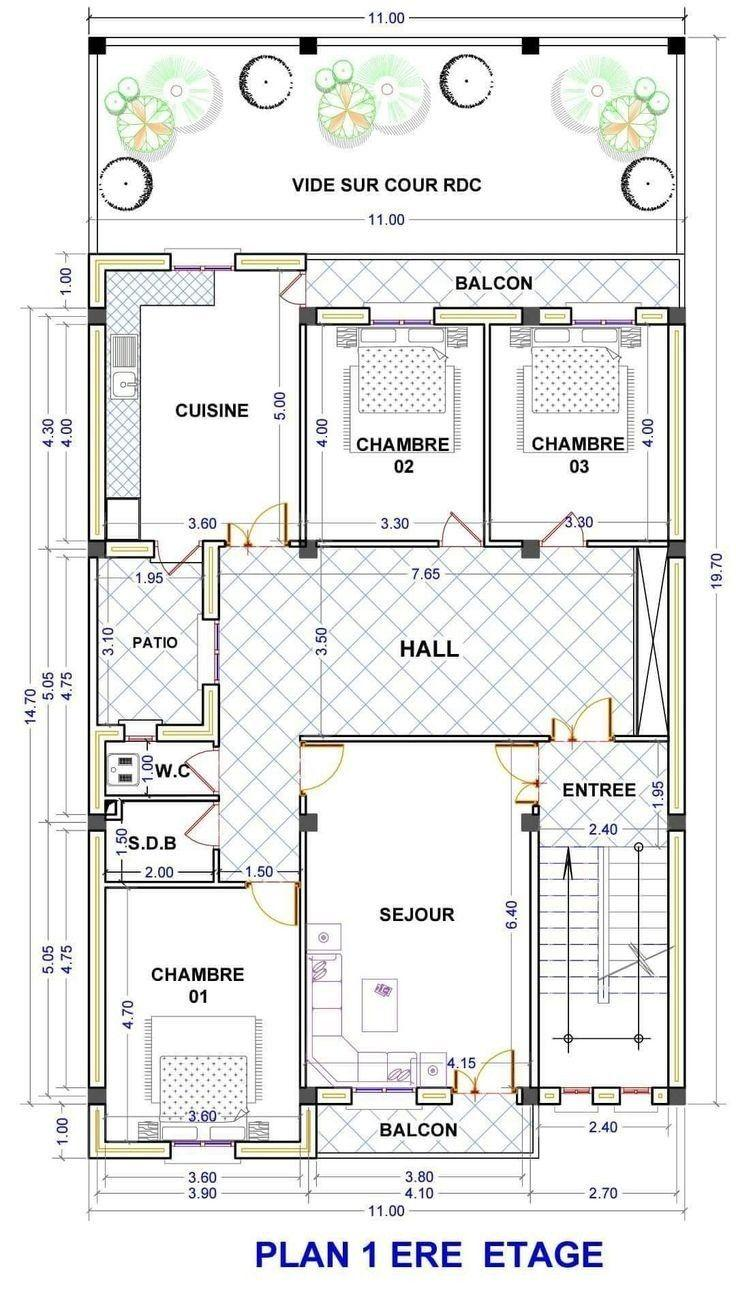Blueprint: (73, 27, 690, 1172)
wall: (83, 554, 115, 819), (299, 248, 691, 268), (660, 830, 690, 1091), (85, 826, 111, 1093), (664, 554, 688, 819), (664, 319, 690, 543), (84, 320, 110, 544), (291, 728, 554, 749), (293, 825, 312, 1097), (525, 826, 544, 1093), (309, 1146, 549, 1165), (481, 303, 493, 550), (297, 323, 310, 549), (105, 35, 299, 49), (230, 1136, 322, 1165), (316, 35, 521, 48), (84, 1134, 178, 1162), (86, 54, 99, 256), (200, 535, 230, 621), (96, 789, 224, 809), (82, 878, 251, 893), (431, 304, 527, 329), (86, 249, 176, 274), (196, 681, 226, 756), (150, 719, 227, 748), (676, 53, 687, 253), (229, 250, 311, 275), (539, 35, 667, 50), (83, 1098, 111, 1164), (313, 537, 443, 551), (296, 1101, 321, 1165), (85, 249, 109, 313), (314, 304, 376, 327), (103, 536, 157, 562), (582, 536, 672, 550), (310, 1082, 356, 1109), (525, 1100, 544, 1164), (671, 246, 691, 306), (585, 1079, 623, 1110), (413, 1083, 455, 1110), (631, 303, 672, 328), (610, 732, 687, 745), (536, 303, 577, 327), (207, 842, 226, 893), (478, 535, 524, 550)
